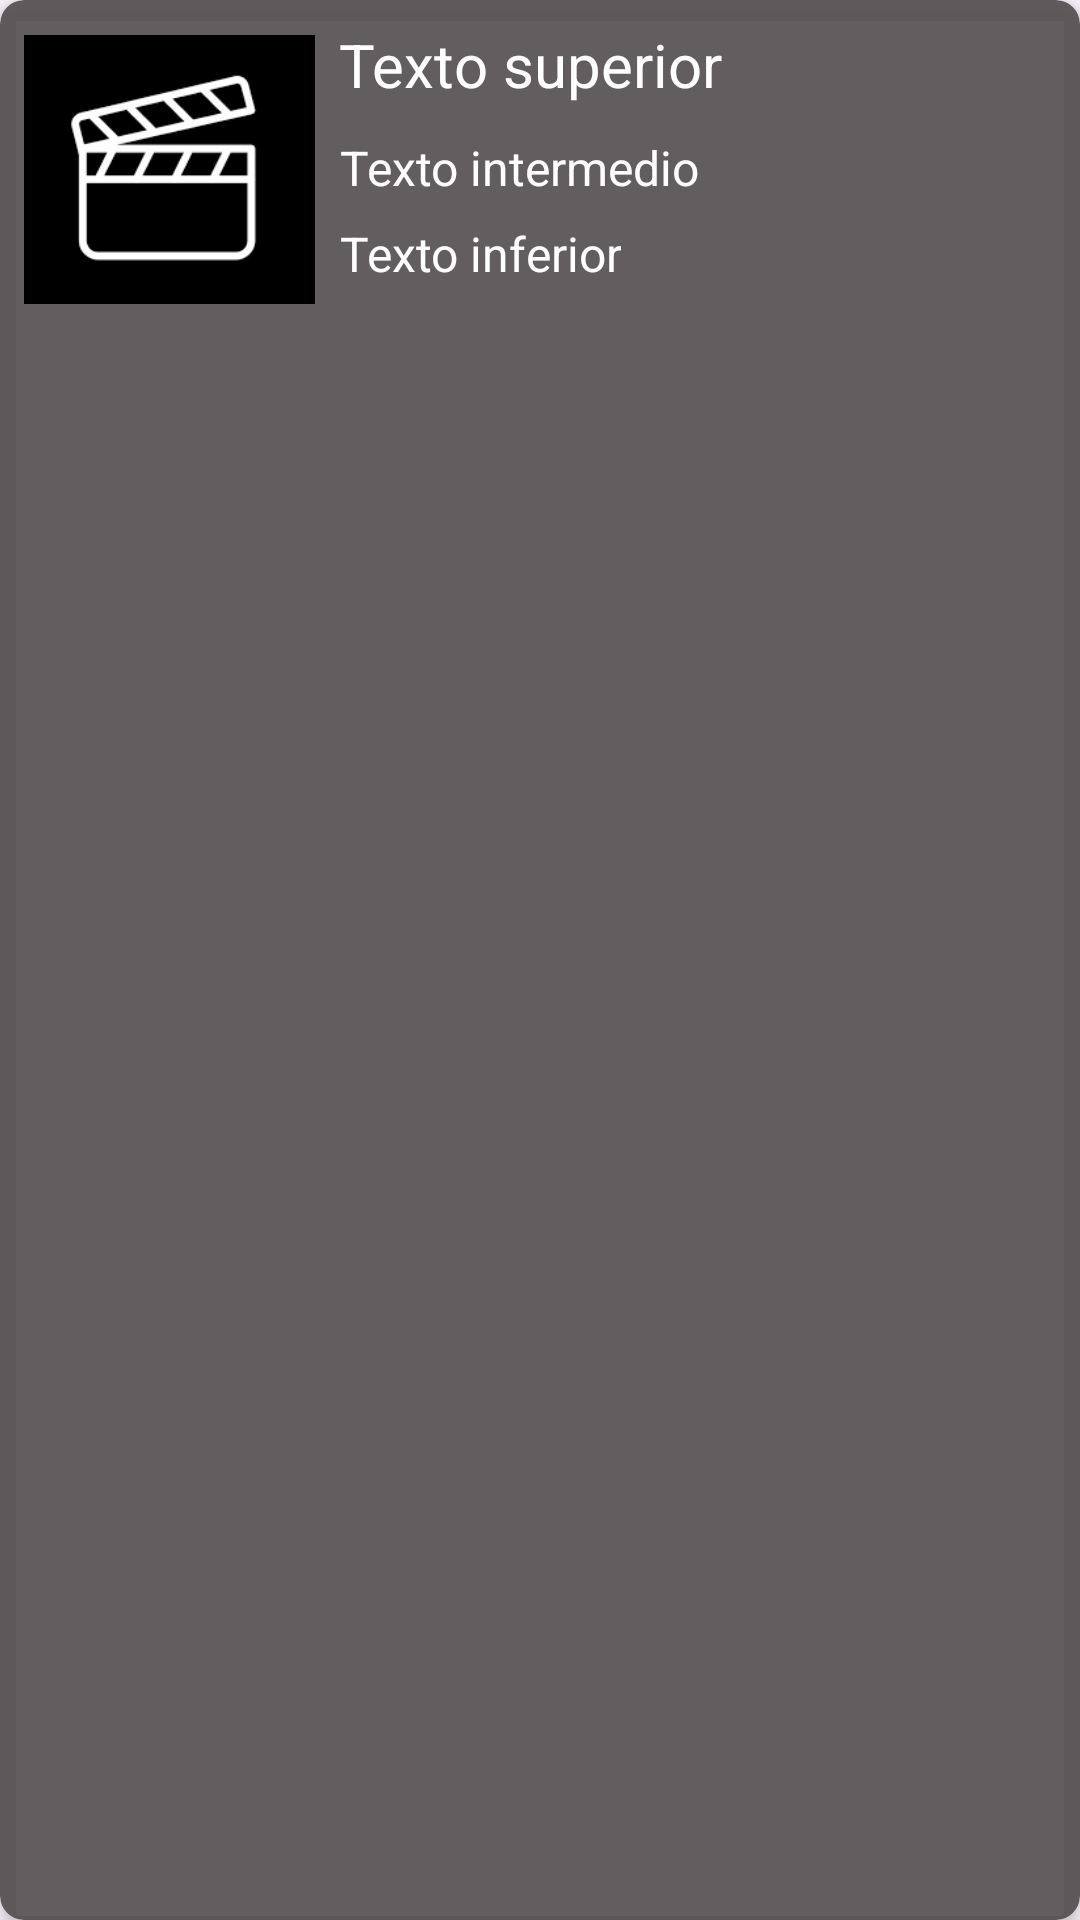

Locate icon controls on the screen. Image size 1080px×1920px, boxes as (x1, y1, x2, y2).
claqueta: (24, 35, 315, 304)
